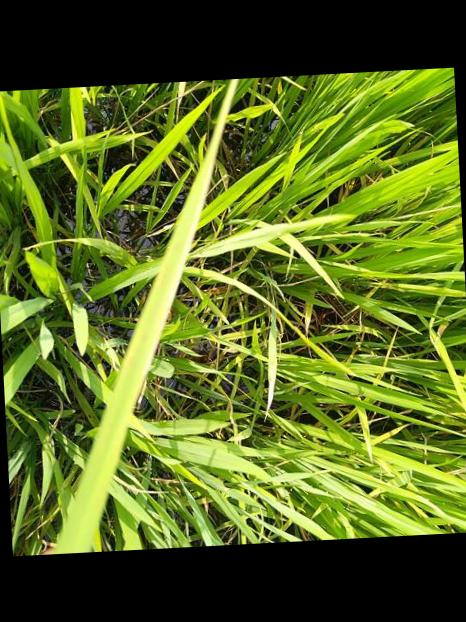Leaf Blight: (53, 77, 239, 554)
